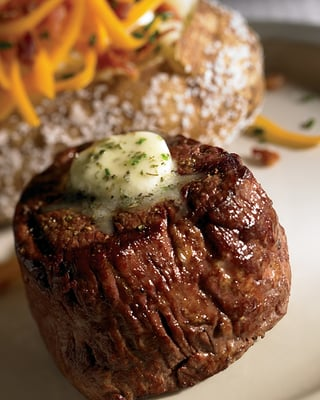sandwich: (10, 129, 292, 397)
